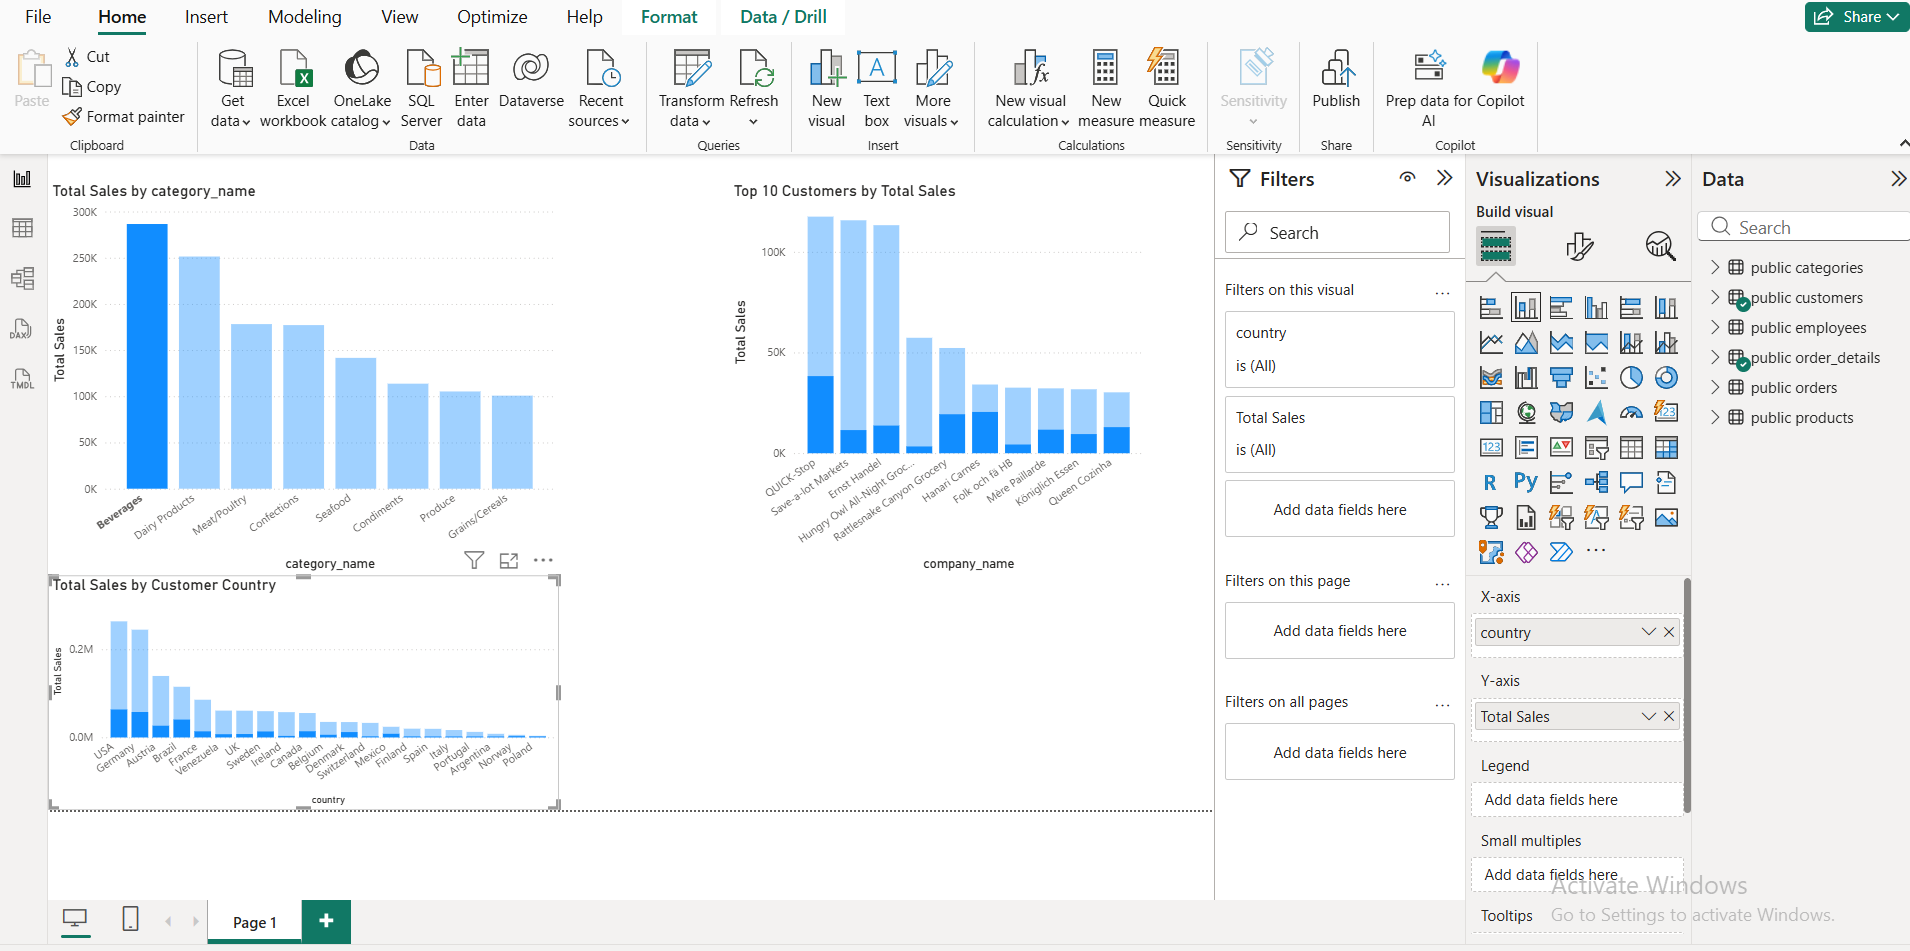

What the dashboard file says about the page in this screenshot:
{"tool":"powerbi","page":{"name":"Page 1","canvas":[1280,720],"ordinal":0},"visuals":[{"type":"columnChart","fields":{"Category":["public categories.category_name"],"Y":["public order_details.Total Sales"]},"box":[9.6,0,561.2,432.2],"z":0},{"type":"columnChart","title":"Total Sales by Customer Country","fields":{"Category":["public customers.country"],"Y":["public order_details.Total Sales"]},"box":[9.6,462.4,561.2,258],"z":1},{"type":"columnChart","title":"Top 10 Customers by Total Sales","fields":{"Category":["public customers.company_name"],"Y":["public order_details.Total Sales"]},"box":[747.9,30.2,459.7,432.2],"z":2}]}

Visuals, with their boxes on the page's 1280x720 design canvas (x1, y1, x2, y2). These are canvas units, not pixel positions in the 1910x951 screenshot, which may show the page scaled, cropped or inside an application window:
columnChart - public categories.category_name x public order_details.Total Sales: (left=10, top=0, right=571, bottom=432)
"Total Sales by Customer Country" columnChart: (left=10, top=462, right=571, bottom=720)
"Top 10 Customers by Total Sales" columnChart: (left=748, top=30, right=1208, bottom=462)
